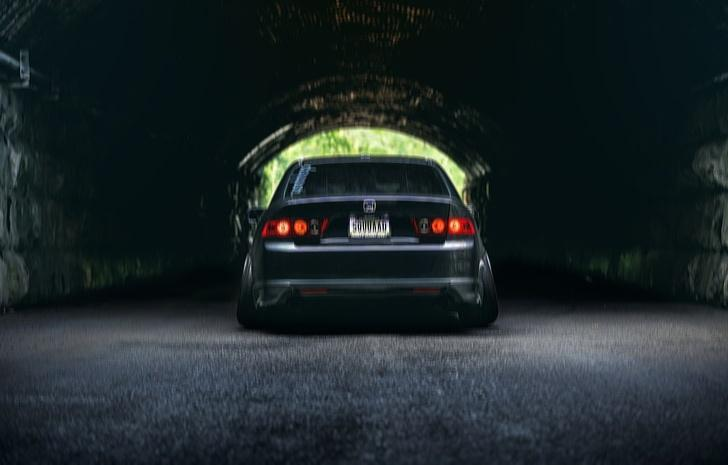Car boot: (283, 193, 454, 251)
Rear bumper: (247, 248, 495, 317)
Rear light - -L-: (256, 215, 326, 249)
Rear light - -R-: (408, 214, 481, 243)
Side mirror - -L-: (245, 203, 270, 227)
Side mirror - -R-: (463, 200, 488, 223)
